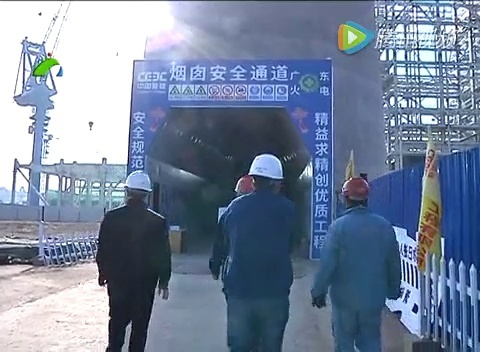red: (341, 174, 370, 210), (232, 174, 256, 200)
white: (249, 152, 285, 193), (122, 168, 153, 203)
